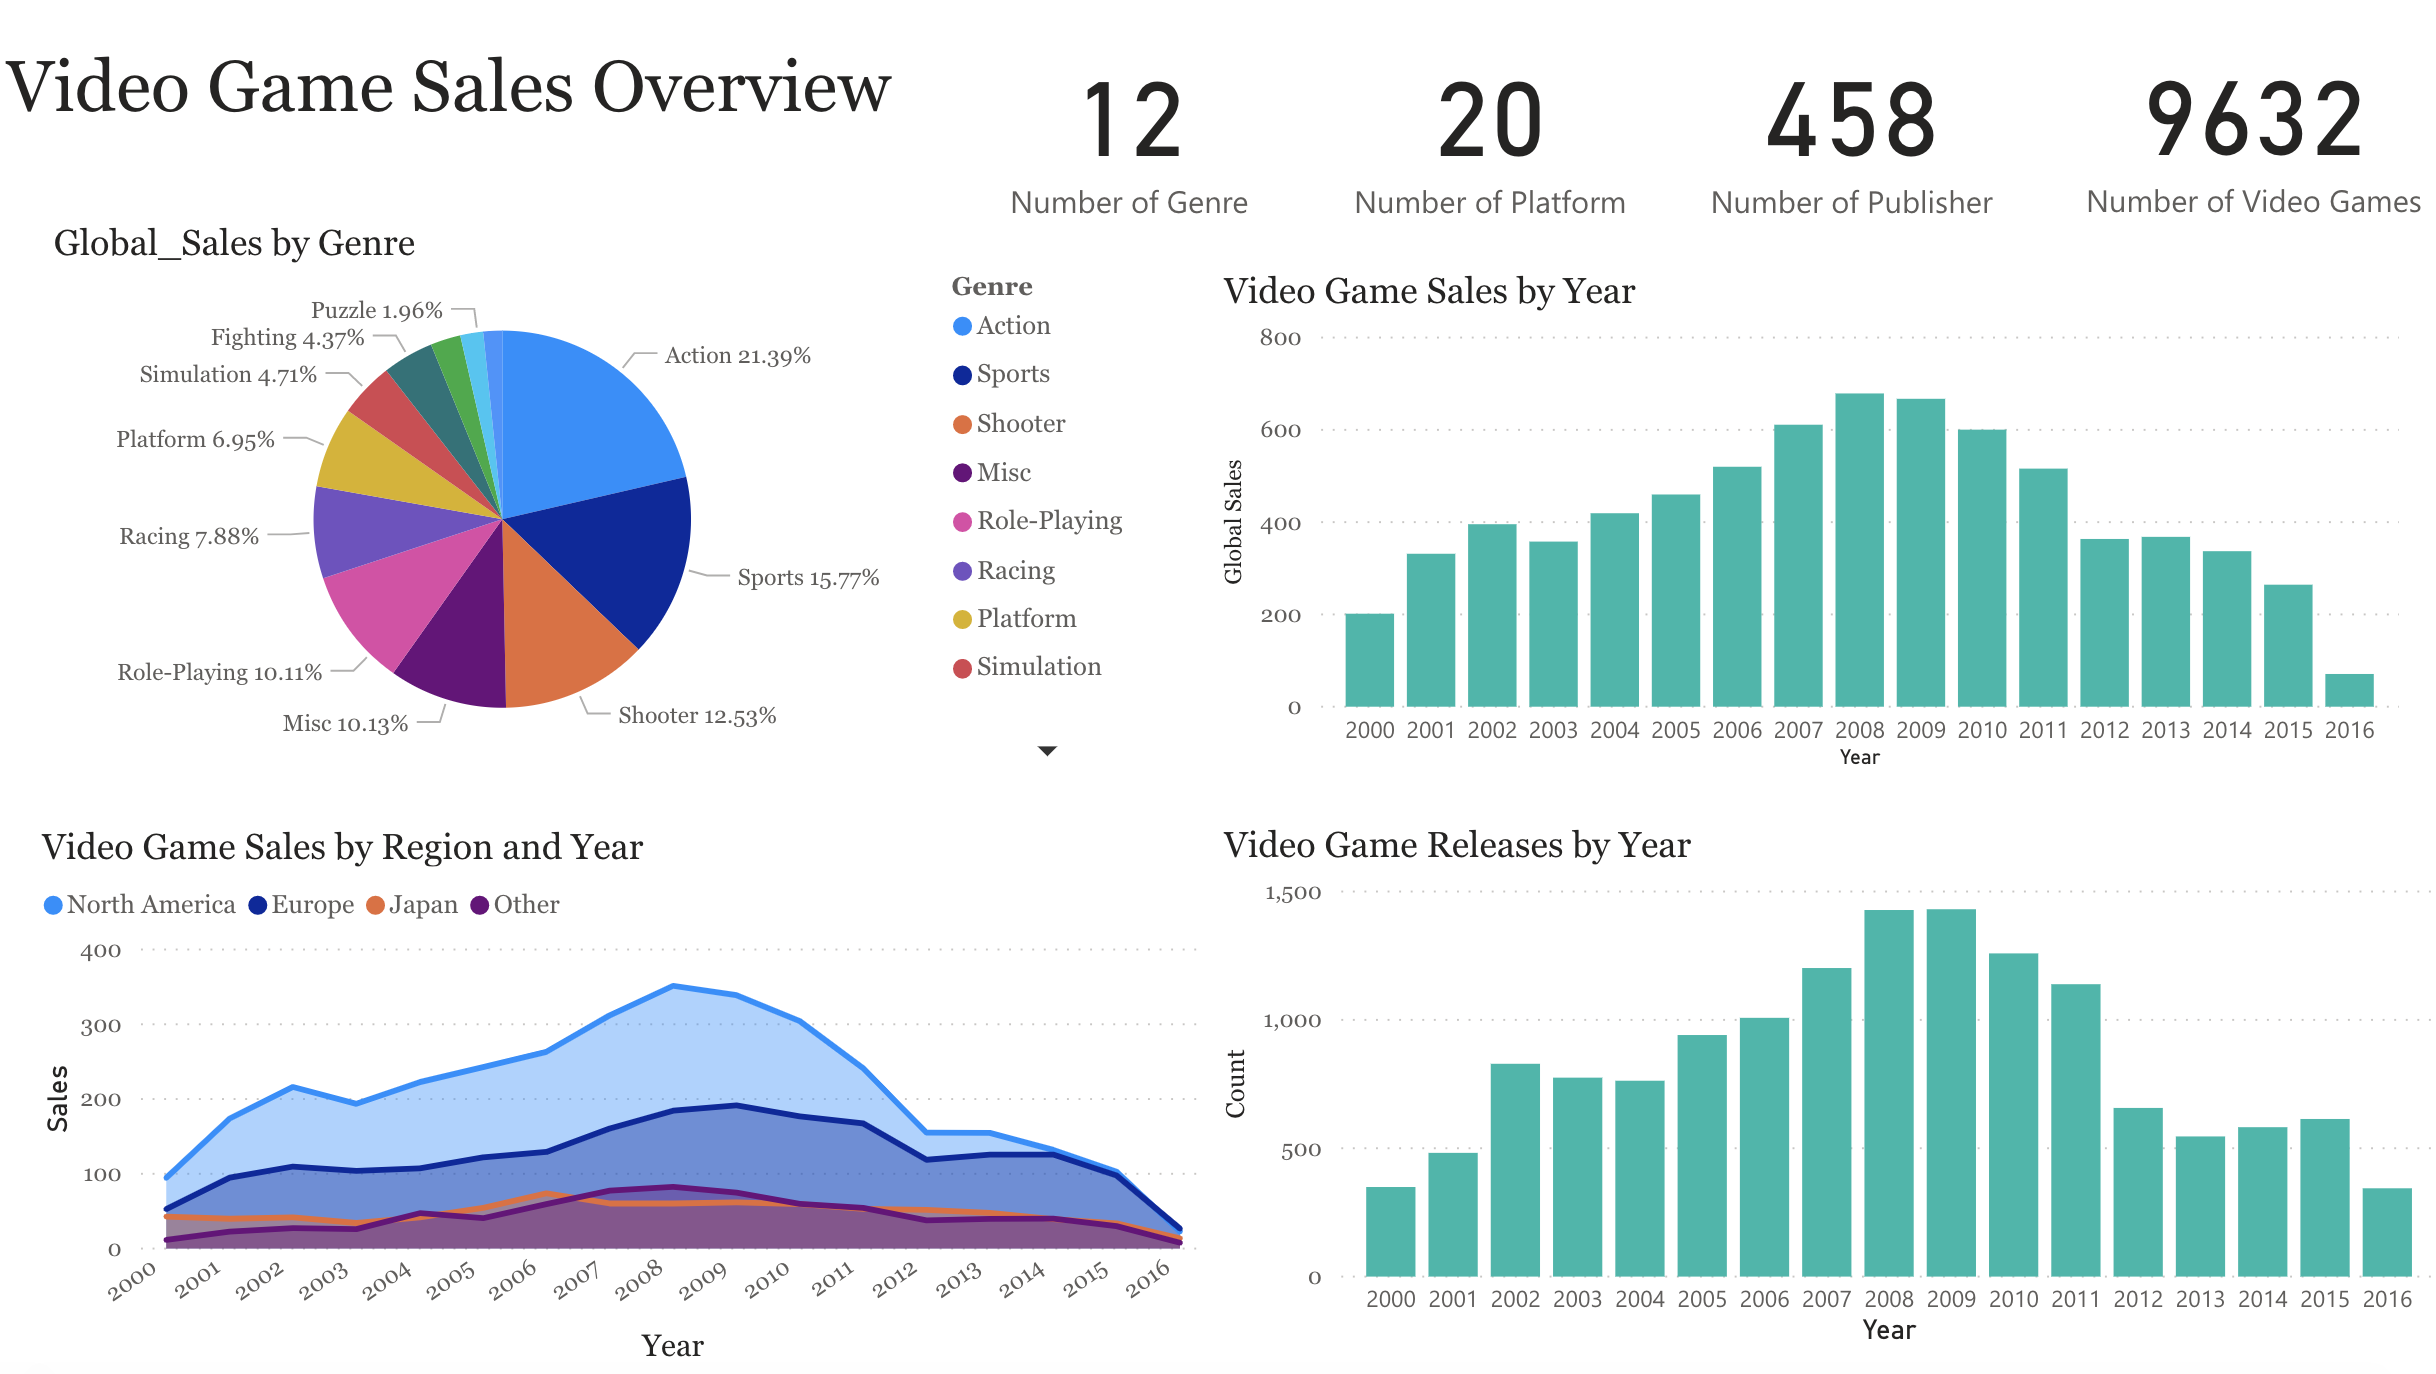

What the dashboard file says about the page in this screenshot:
{"tool":"powerbi","page":{"name":"Overview","canvas":[1280,720],"ordinal":0},"visuals":[{"type":"textbox","box":[9.6,27.4,480.5,76.7],"z":0},{"type":"lineStackedColumnComboChart","title":"Video Game Sales by Year","fields":{"Category":["vgsales.Year"],"Y":["Sum(vgsales.Global_Sales)"]},"box":[640.7,148.5,618.7,262.6],"z":1000},{"type":"columnChart","title":"Video Game Releases by Year","fields":{"Category":["vgsales.Year"],"Y":["CountNonNull(vgsales.Global_Sales)"]},"box":[640.6,435.4,639.4,275.2],"z":2000},{"type":"pieChart","title":"Global_Sales by Genre","fields":{"Y":["Sum(vgsales.Global_Sales)"],"Category":["vgsales.Genre"]},"box":[34.4,123.7,573.3,287.3],"z":3000},{"type":"card","fields":{"Values":["vgsales.Number of Genre"]},"box":[529,16.4,135.7,113.7],"z":4000},{"type":"card","fields":{"Values":["vgsales.Number of Publisher"]},"box":[878.5,16.4,183.6,113.7],"z":5000},{"type":"card","fields":{"Values":["vgsales.Number of Platform"]},"box":[700.3,16.4,165.8,113.7],"z":6000},{"type":"card","fields":{"Values":["vgsales.Number of Video Games"]},"box":[1078.5,21.9,201.5,102.8],"z":7000},{"type":"areaChart","title":"Video Game Sales by Region and Year","fields":{"Category":["vgsales.Year"],"Y":["vgsales.North America","vgsales.Europe","vgsales.Japan","vgsales.Other"]},"box":[27.5,435.8,613.2,283.2],"z":8000}]}

Visuals, with their boxes in screenshot pixels (x1, y1, x2, y2), scaled from the page's 1280x720 canvas onto the 2436x1374 screenshot:
textbox: box=[18, 52, 933, 199]
"Video Game Sales by Year" lineStackedColumnComboChart: box=[1219, 283, 2397, 785]
"Video Game Releases by Year" columnChart: box=[1219, 831, 2435, 1356]
"Global_Sales by Genre" pieChart: box=[65, 236, 1157, 784]
card - vgsales.Number of Genre: box=[1007, 31, 1265, 248]
card - vgsales.Number of Publisher: box=[1672, 31, 2021, 248]
card - vgsales.Number of Platform: box=[1333, 31, 1648, 248]
card - vgsales.Number of Video Games: box=[2053, 42, 2435, 238]
"Video Game Sales by Region and Year" areaChart: box=[52, 832, 1219, 1372]
